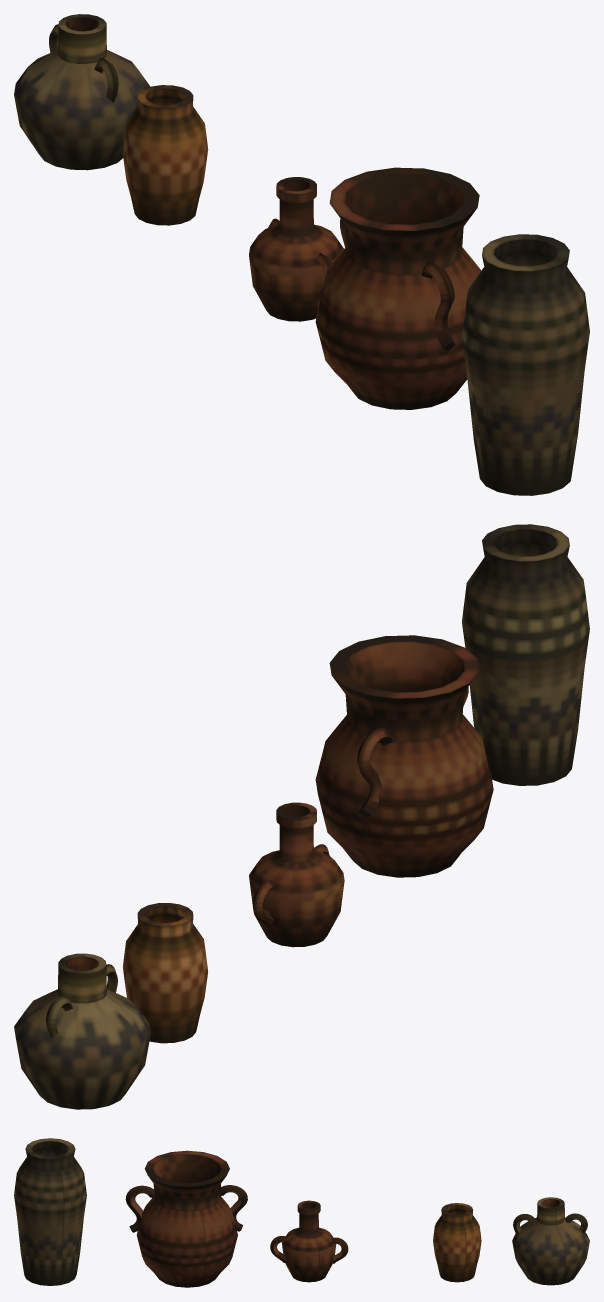
File: EnvObjMD_Vase_B_M_B.FBX
3 views of the same model, one above another, from view 1: azimuth 30°, elevation 25°; view 2: azimuth 150°, elevation 25°; view 3: azimuth 270°, elevation 25° (orthographic). The views are drawn at different scales.
Visible parts, largest first — view 1: EnvObjMD_Vase_B_L_A, EnvObjMD_Vase_B_L_B, EnvObjMD_Vase_B_M_A, EnvObjMD_Vase_B_M_B, EnvObjMD_Vase_B_M_C; view 2: EnvObjMD_Vase_B_L_A, EnvObjMD_Vase_B_L_B, EnvObjMD_Vase_B_M_A, EnvObjMD_Vase_B_M_C, EnvObjMD_Vase_B_M_B; view 3: EnvObjMD_Vase_B_L_A, EnvObjMD_Vase_B_L_B, EnvObjMD_Vase_B_M_A, EnvObjMD_Vase_B_M_C, EnvObjMD_Vase_B_M_B.
Part boxes in pixels (<box>): EnvObjMD_Vase_B_L_A: <box>315,167,481,409</box>; EnvObjMD_Vase_B_L_B: <box>462,234,589,495</box>; EnvObjMD_Vase_B_M_A: <box>14,14,150,170</box>; EnvObjMD_Vase_B_M_B: <box>122,85,208,225</box>; EnvObjMD_Vase_B_M_C: <box>249,177,343,321</box>; EnvObjMD_Vase_B_L_A: <box>315,635,493,877</box>; EnvObjMD_Vase_B_L_B: <box>462,524,589,785</box>; EnvObjMD_Vase_B_M_A: <box>14,953,150,1109</box>; EnvObjMD_Vase_B_M_C: <box>249,802,344,947</box>; EnvObjMD_Vase_B_M_B: <box>122,903,207,1043</box>; EnvObjMD_Vase_B_L_A: <box>125,1150,247,1287</box>; EnvObjMD_Vase_B_L_B: <box>14,1138,86,1285</box>; EnvObjMD_Vase_B_M_A: <box>512,1197,589,1285</box>; EnvObjMD_Vase_B_M_C: <box>270,1200,348,1282</box>; EnvObjMD_Vase_B_M_B: <box>433,1203,481,1282</box>.
Bounding box in the file's own units: 82.97 × 114 × 472.
